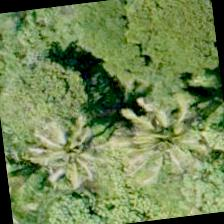Kelapa_Sawit: (25, 98, 125, 198), (117, 76, 217, 176)
